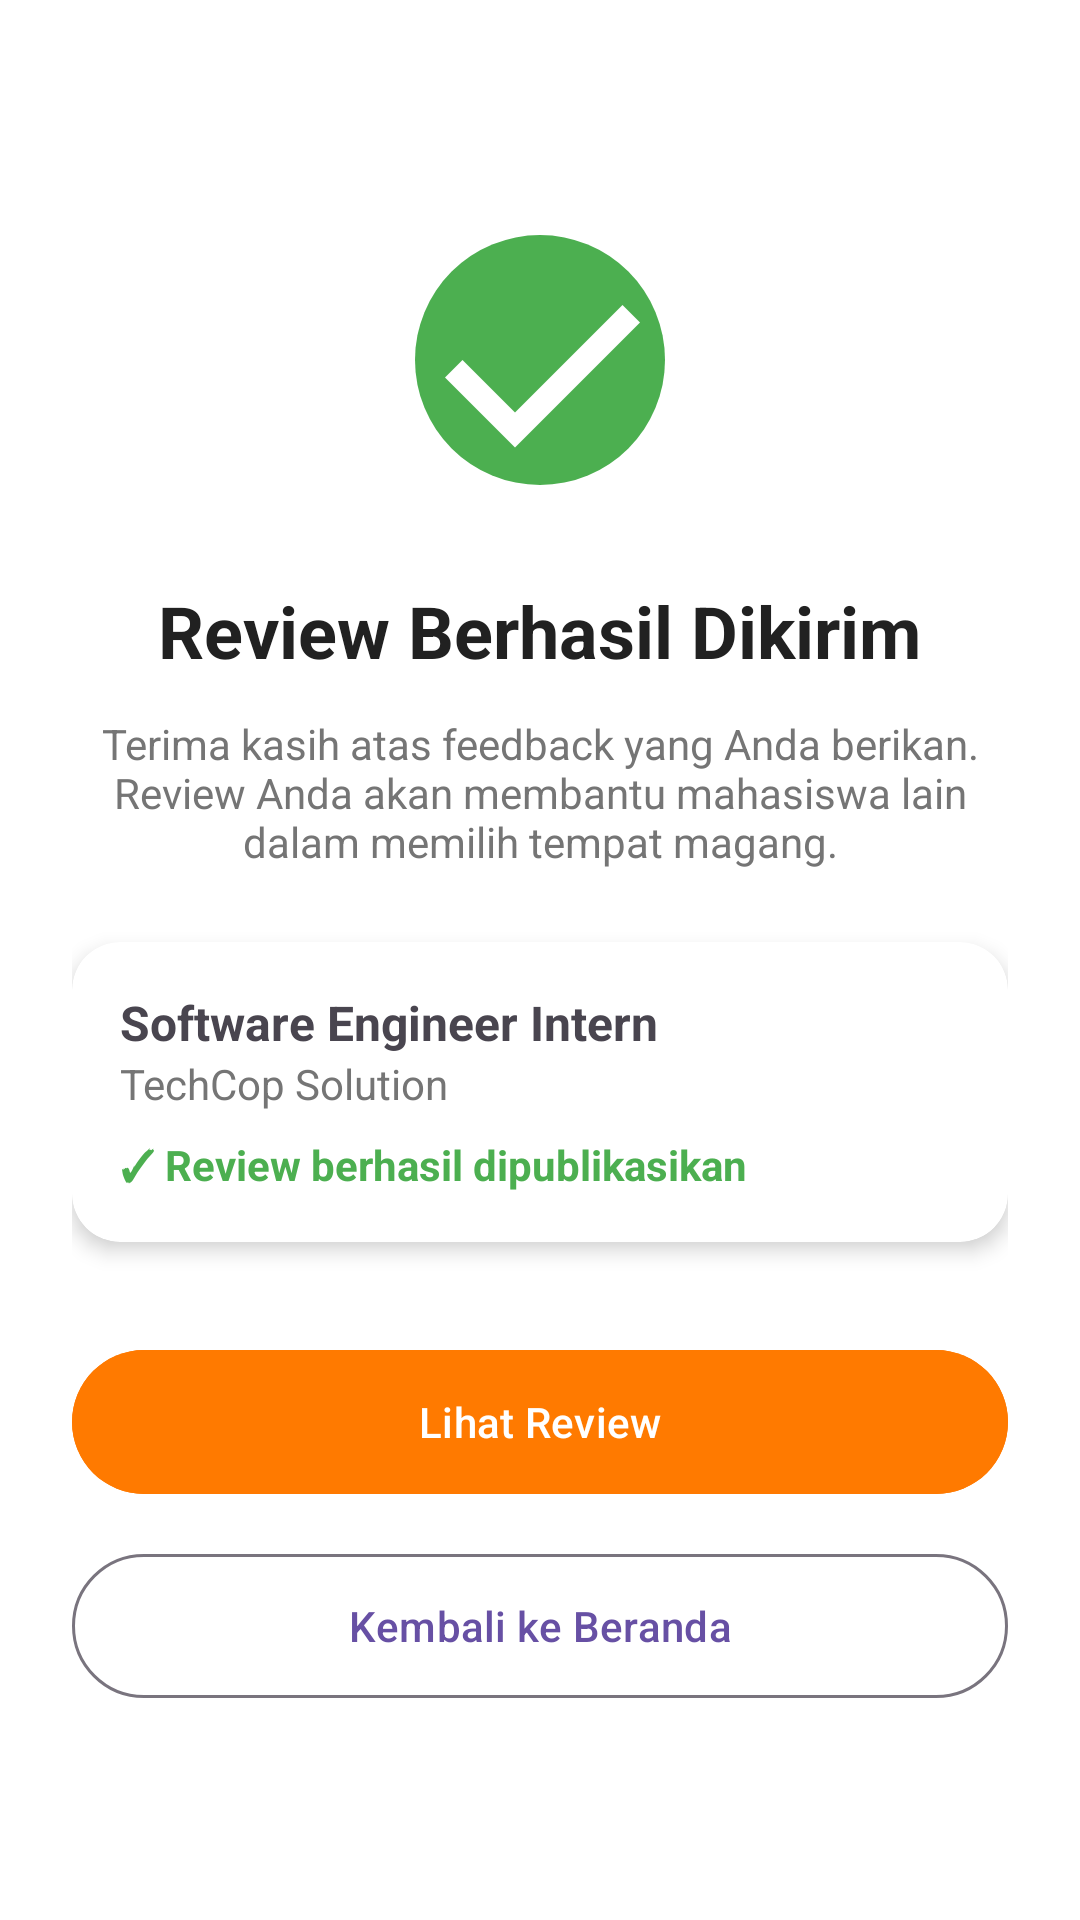

Screen size 1080 x 1920. Icon name, then its box in pixels as region(x1, y1, x2, y2):
success: region(415, 235, 665, 485)
